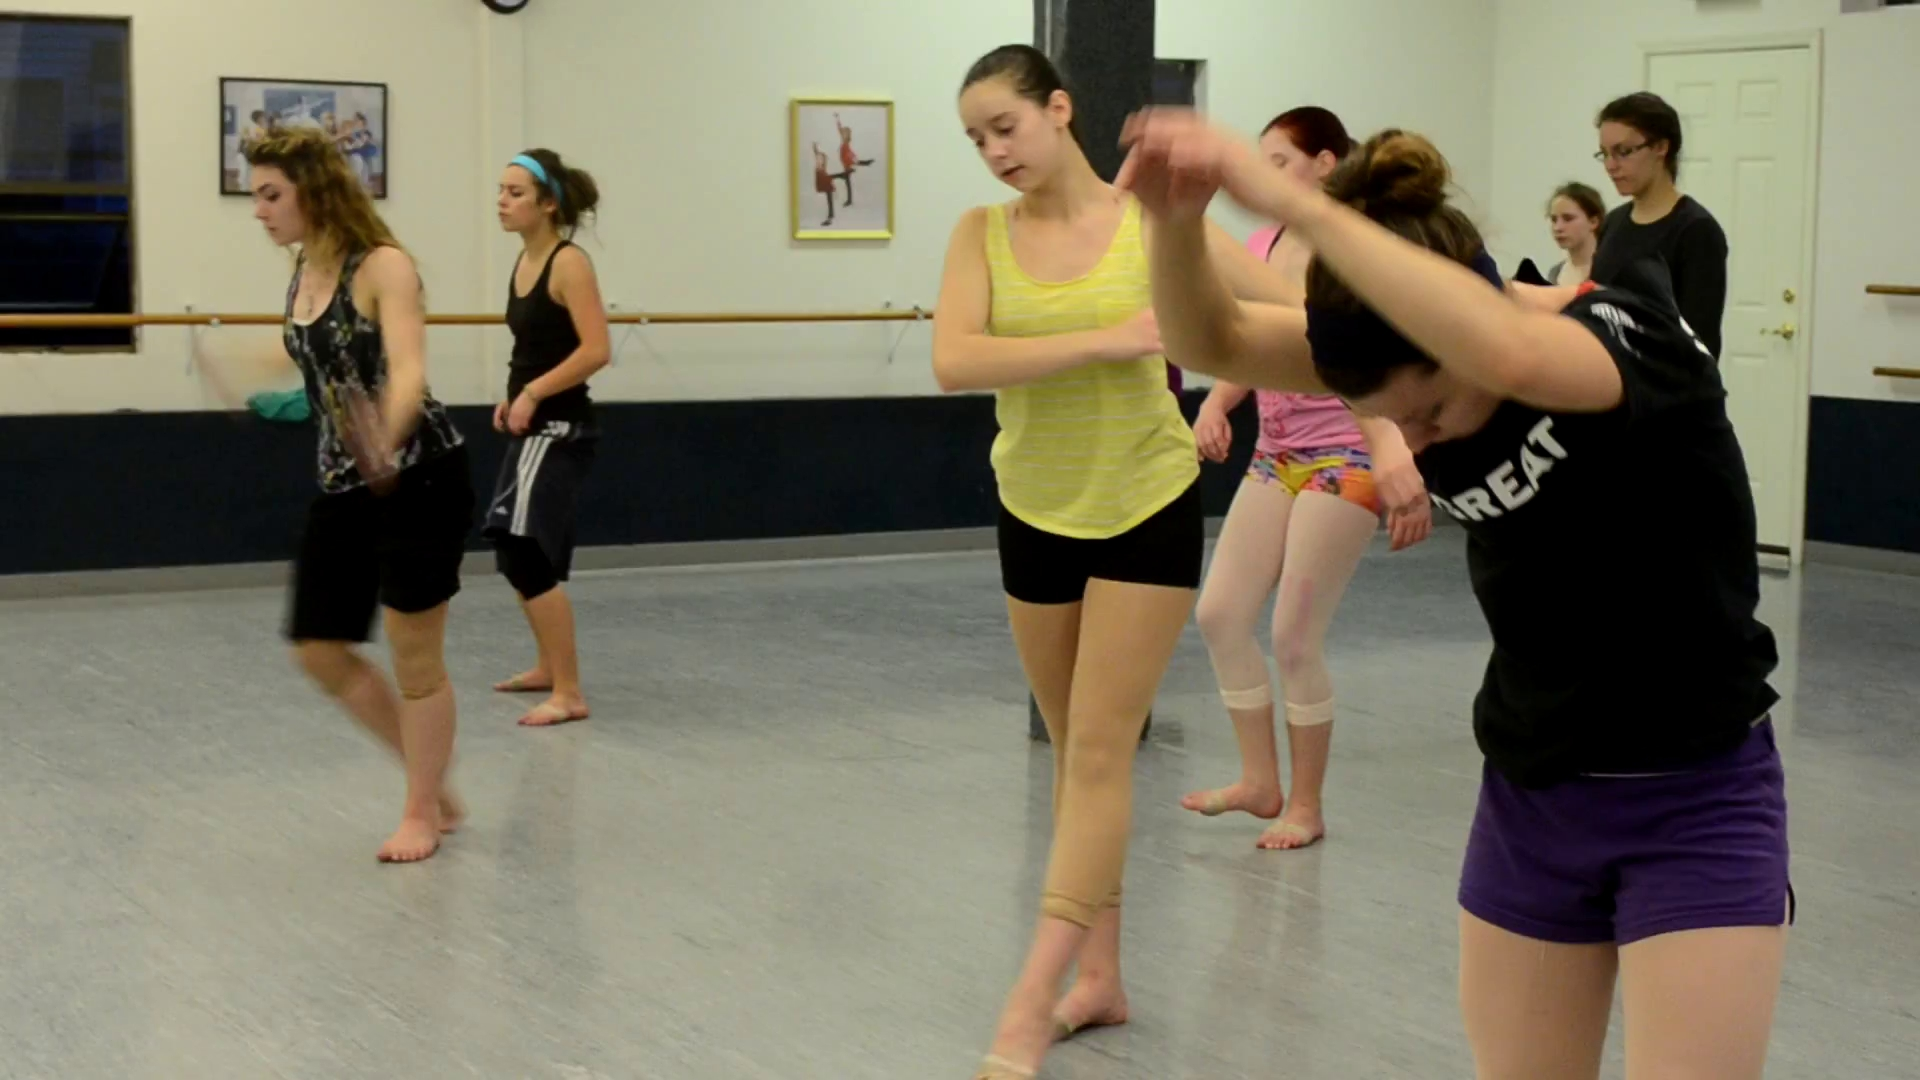person: (1114, 104, 1792, 1080), (931, 44, 1203, 1080), (241, 124, 466, 864), (1181, 107, 1384, 851), (484, 147, 612, 727), (1596, 92, 1728, 367), (1547, 182, 1608, 284)
